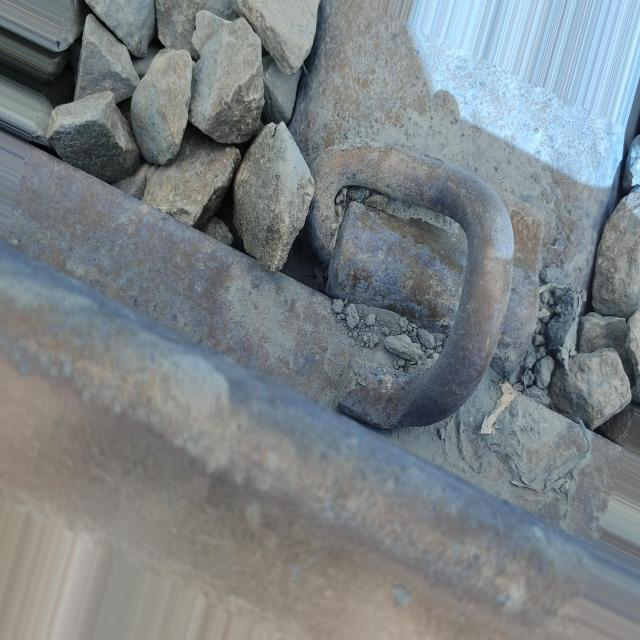Good Fasteners: (254, 95, 564, 467)
